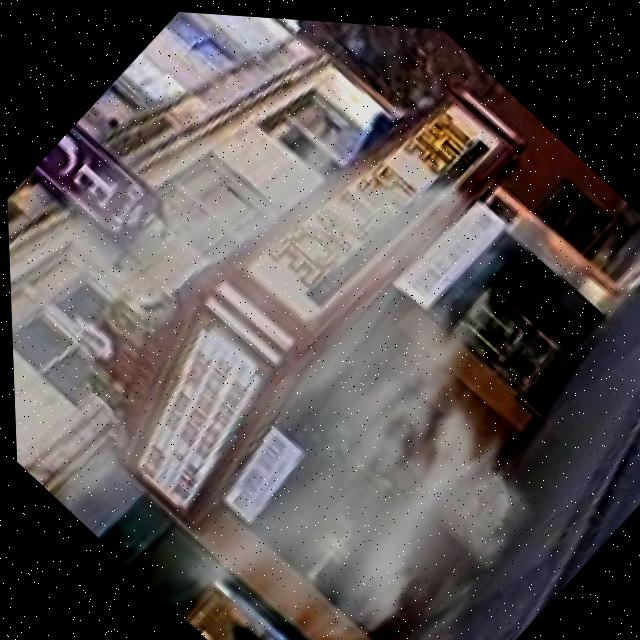Smoke: (6, 10, 640, 640)
